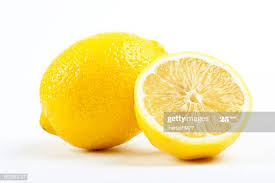lemon: (36, 29, 178, 148)
